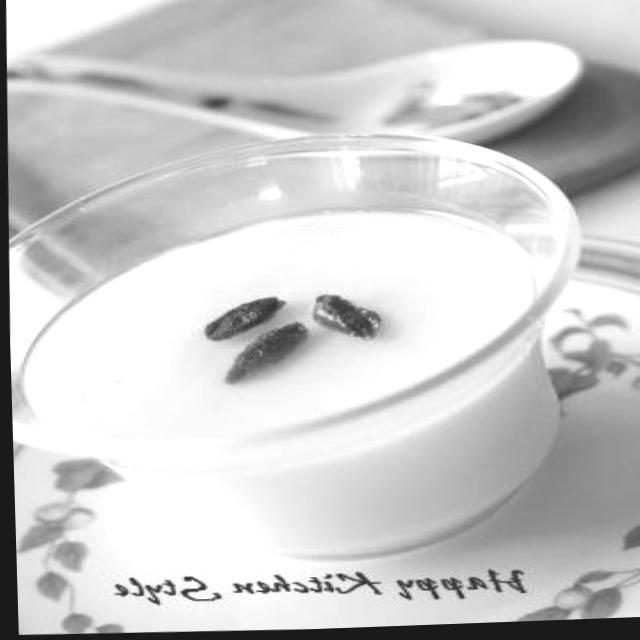米饭主食: (491, 146, 640, 280)
